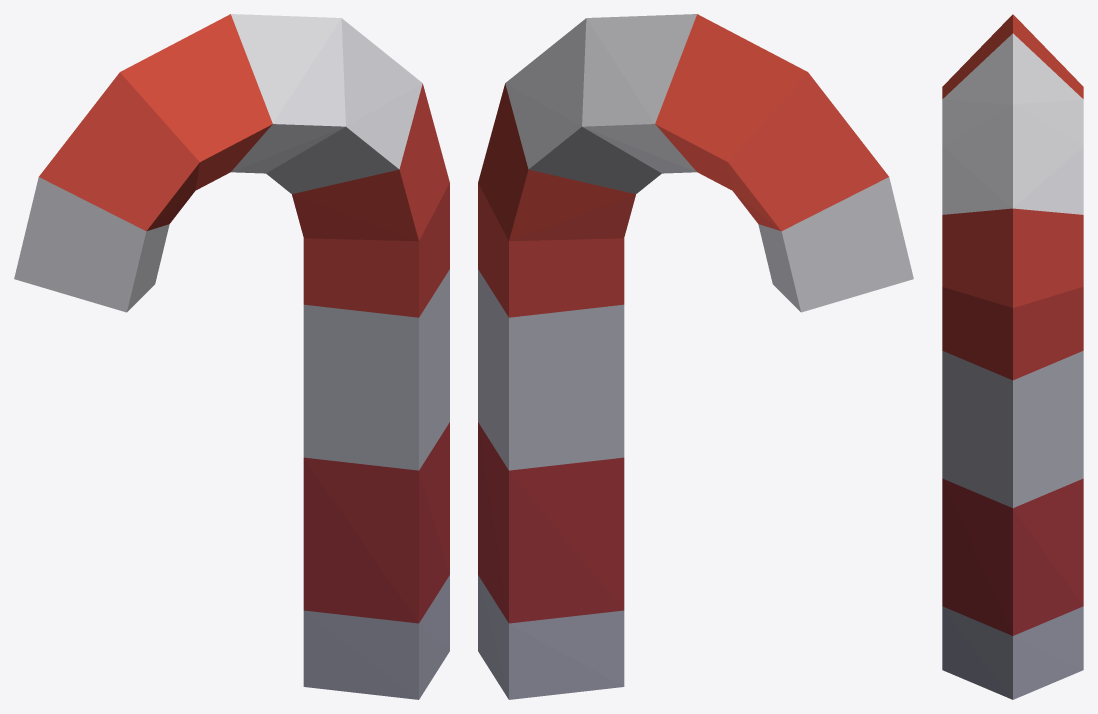
File: candy_cane.glb
3 views of the same model, side by side, from view 1: azimuth 30°, elevation 25°; view 2: azimuth 150°, elevation 25°; view 3: azimuth 270°, elevation 25° (orthographic). The views are drawn at different scales.
Visible parts, largest first — view 1: candy_cane; view 2: candy_cane; view 3: candy_cane.
Part boxes in pixels (<box>): candy_cane: <box>14,14,449,699</box>; candy_cane: <box>478,14,913,699</box>; candy_cane: <box>942,14,1083,699</box>.
Size of the model in its own units: 0.6603 by 1 by 0.2214.
